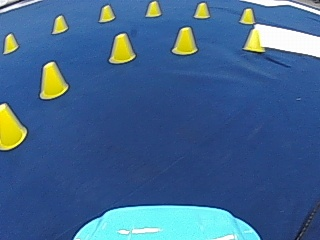cone: (0, 103, 26, 149), (38, 60, 68, 98), (107, 32, 136, 63), (171, 25, 198, 55), (243, 26, 263, 51), (51, 14, 68, 34), (3, 32, 18, 53), (98, 4, 115, 22), (193, 2, 209, 19), (239, 7, 255, 24), (145, 1, 161, 17)
